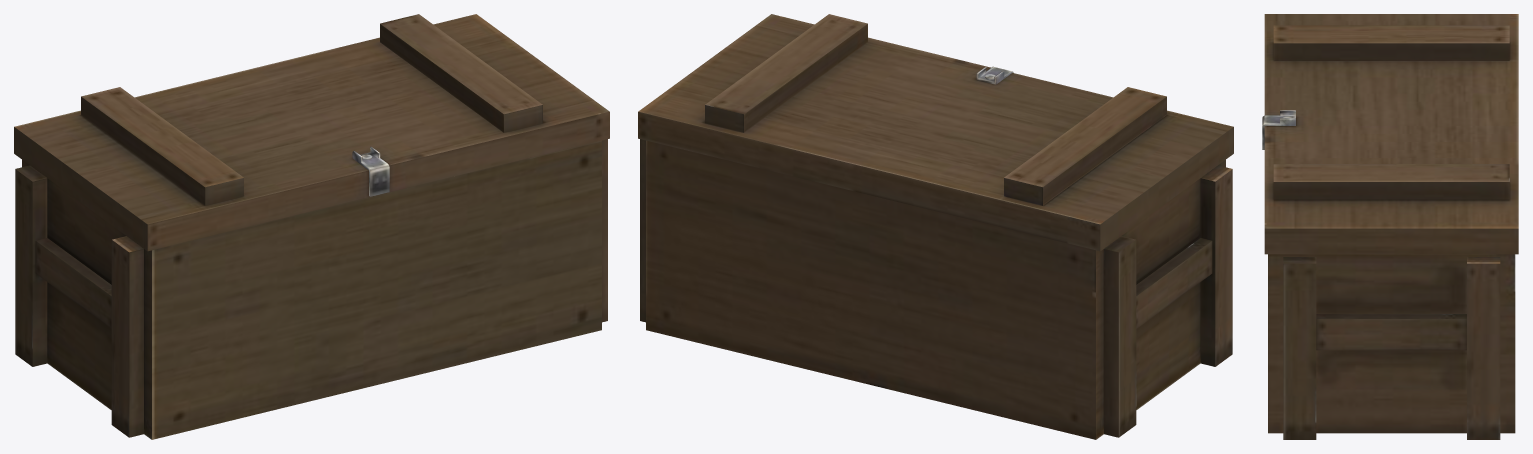
File: crate_lidded.glb
3 views of the same model, side by side, from view 1: azimuth 30°, elevation 25°; view 2: azimuth 150°, elevation 25°; view 3: azimuth 270°, elevation 25° (orthographic). The views are drawn at different scales.
Visible parts, largest first — view 1: Base_Cube, Top_Cube.001; view 2: Base_Cube, Top_Cube.001; view 3: Top_Cube.001, Base_Cube.
Part boxes in pixels (x1=…): Base_Cube: x1=15, y1=139, x2=607, y2=439; Top_Cube.001: x1=14, y1=14, x2=609, y2=251; Base_Cube: x1=640, y1=139, x2=1232, y2=439; Top_Cube.001: x1=638, y1=14, x2=1233, y2=251; Top_Cube.001: x1=1262, y1=14, x2=1518, y2=254; Base_Cube: x1=1268, y1=254, x2=1515, y2=439.
Bounding box in the file's own units: 0.8 × 0.3782 × 0.3897.
Materials: 1 (1 with a texture image).
